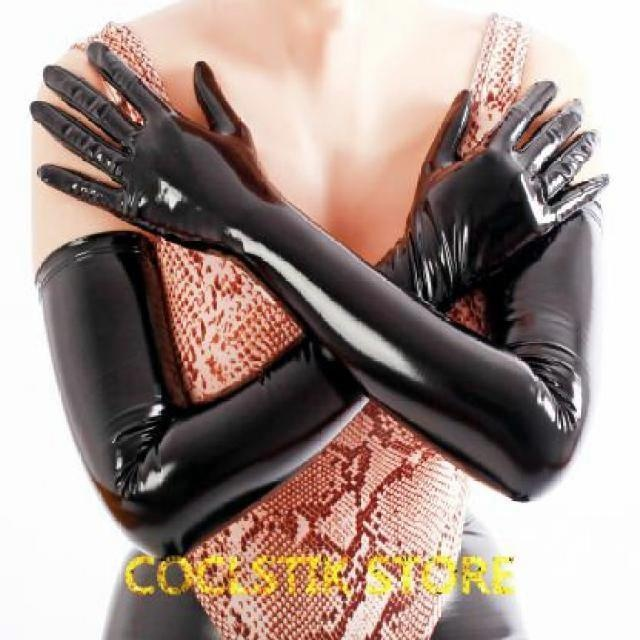Guantes: (42, 57, 567, 508), (22, 91, 580, 385)
